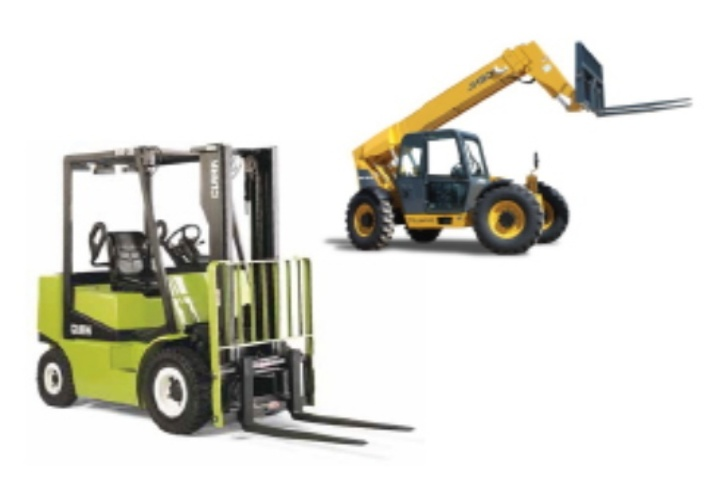industrial: (23, 132, 429, 470), (305, 19, 703, 261)
